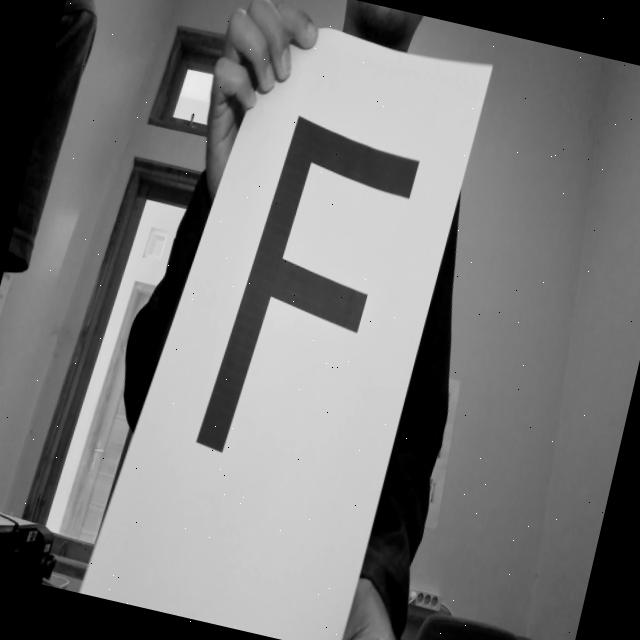f: (174, 86, 436, 526)
